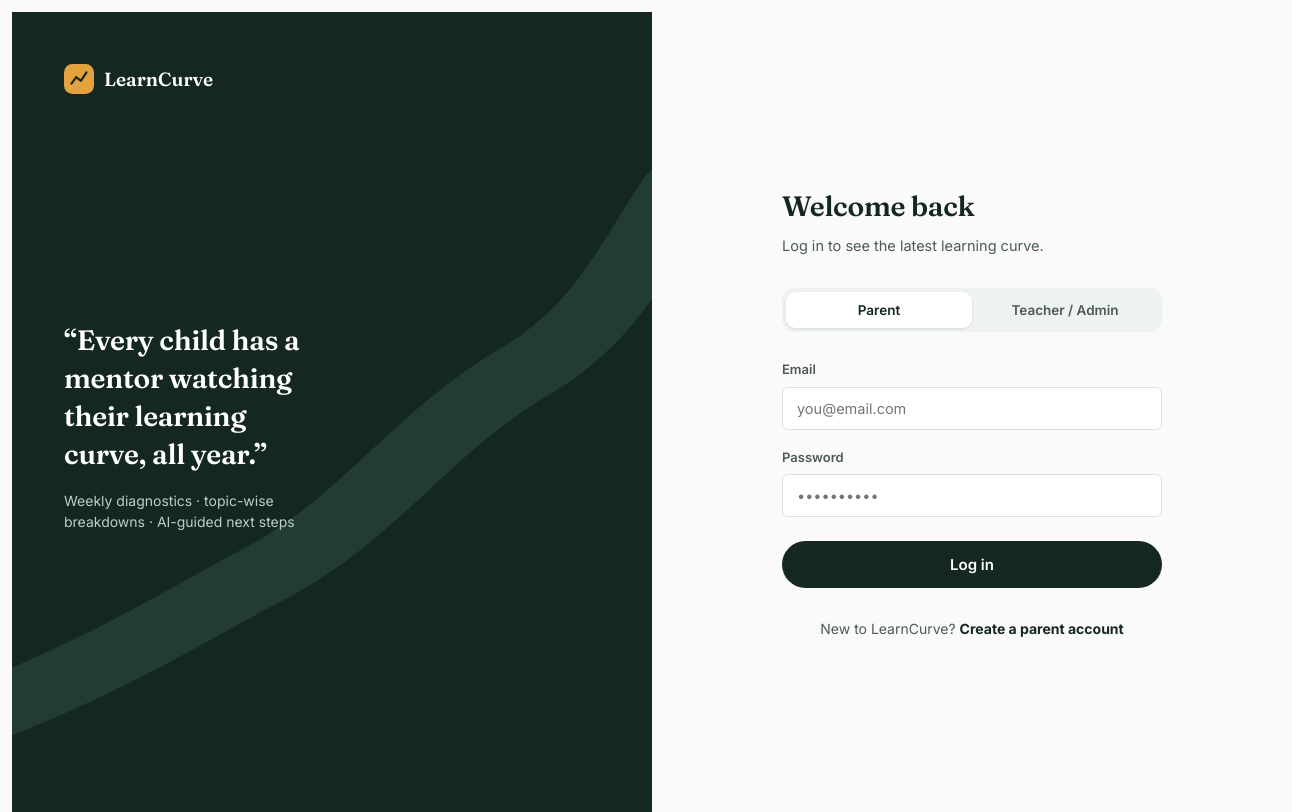
Test: auth flows › sends an admin to /admin after login
Type "rekha@school.in" into the field labelled "Email".
click(972, 408); type("rekha@school.in")  # box [782, 387, 1162, 430]
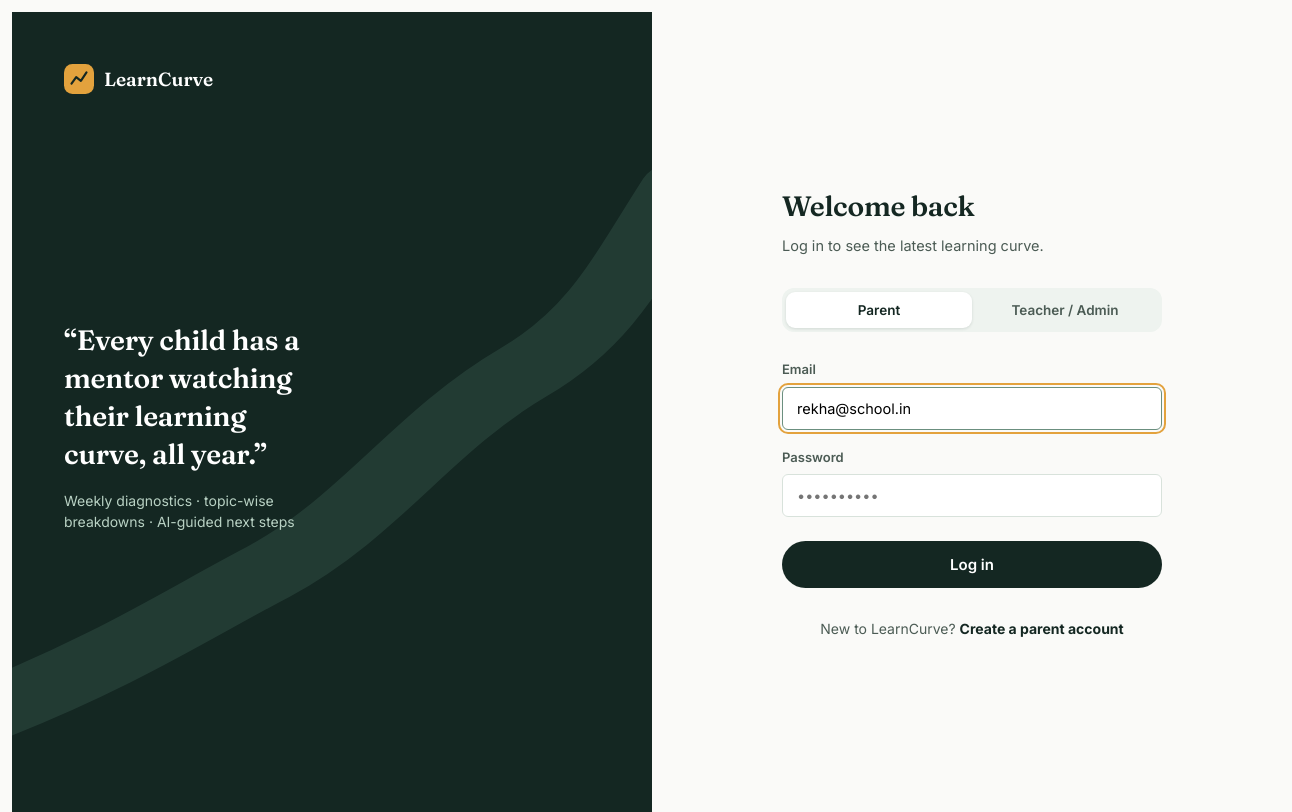
Type "admin-password" into the password field labelled "Password".
click(972, 496); type("admin-password")  # box [782, 474, 1162, 517]
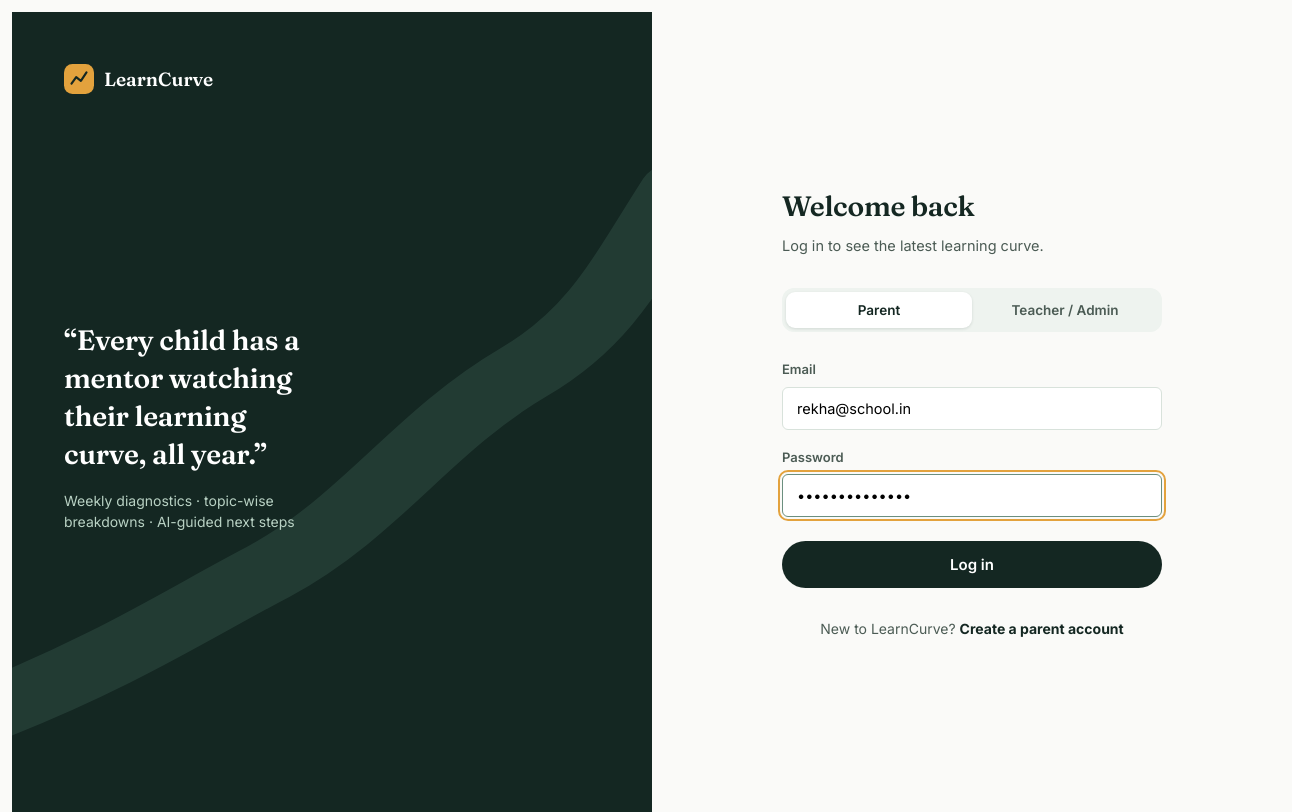
Click the button "Log in".
click(972, 565)  # box [782, 541, 1162, 588]
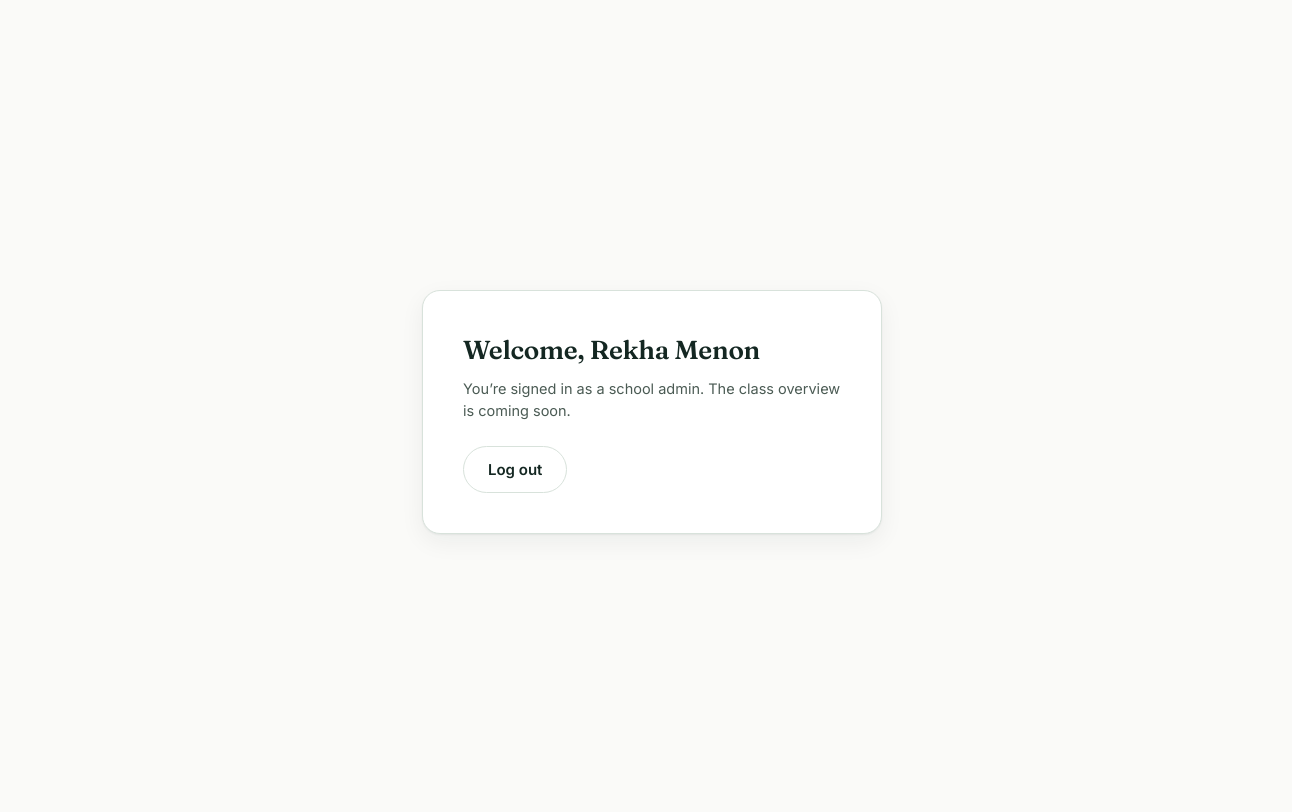
Expected: the heading "Welcome, Rekha Menon" is shown, [463, 334, 760, 366]
